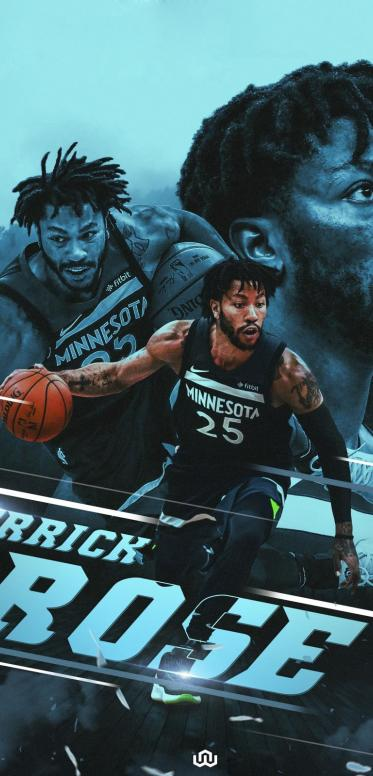ball: (1, 368, 73, 442)
